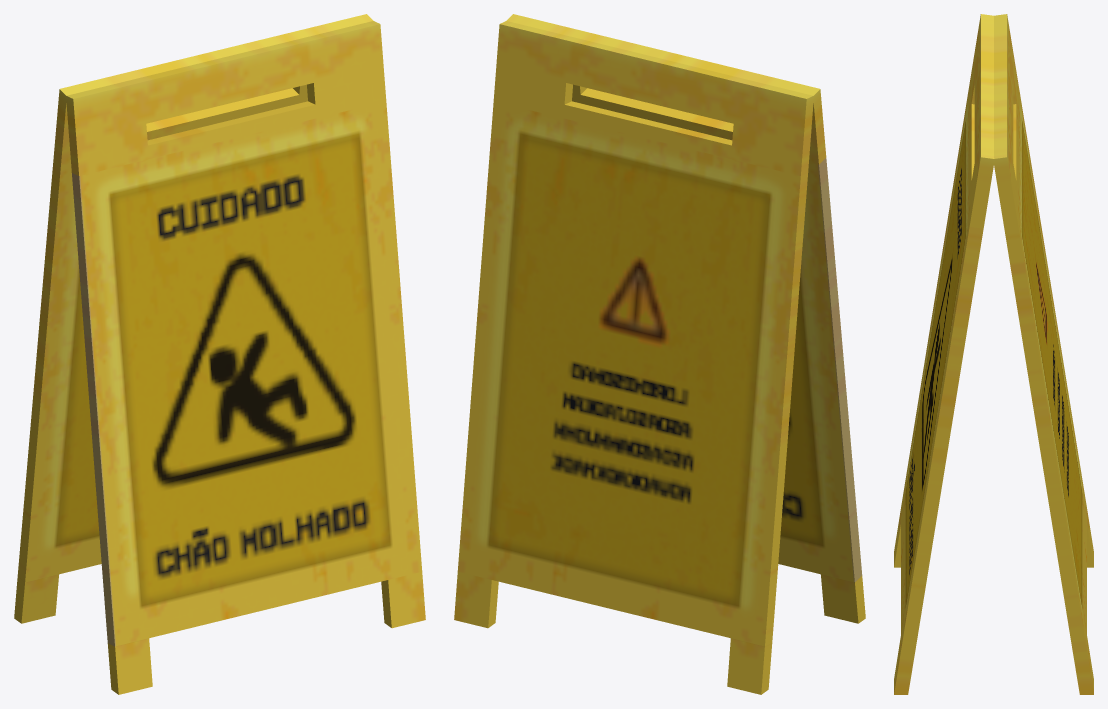
File: SM_PROP_SIGN_01.fbx
3 views of the same model, side by side, from view 1: azimuth 30°, elevation 25°; view 2: azimuth 150°, elevation 25°; view 3: azimuth 270°, elevation 25° (orthographic). The views are drawn at different scales.
Visible parts, largest first — view 1: SM_PROP_SIGN_01; view 2: SM_PROP_SIGN_01; view 3: SM_PROP_SIGN_01.
Boxes of the visible parts, x1,y1,x2,y2 form: SM_PROP_SIGN_01: (14,14,425,694); SM_PROP_SIGN_01: (454,14,865,694); SM_PROP_SIGN_01: (894,14,1093,694).
Bounding box in the file's own units: 0.4767 × 0.8346 × 0.2812.
